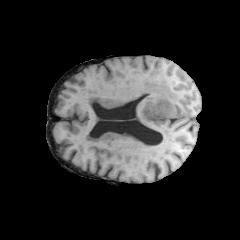glioma: (129, 69, 181, 133)
